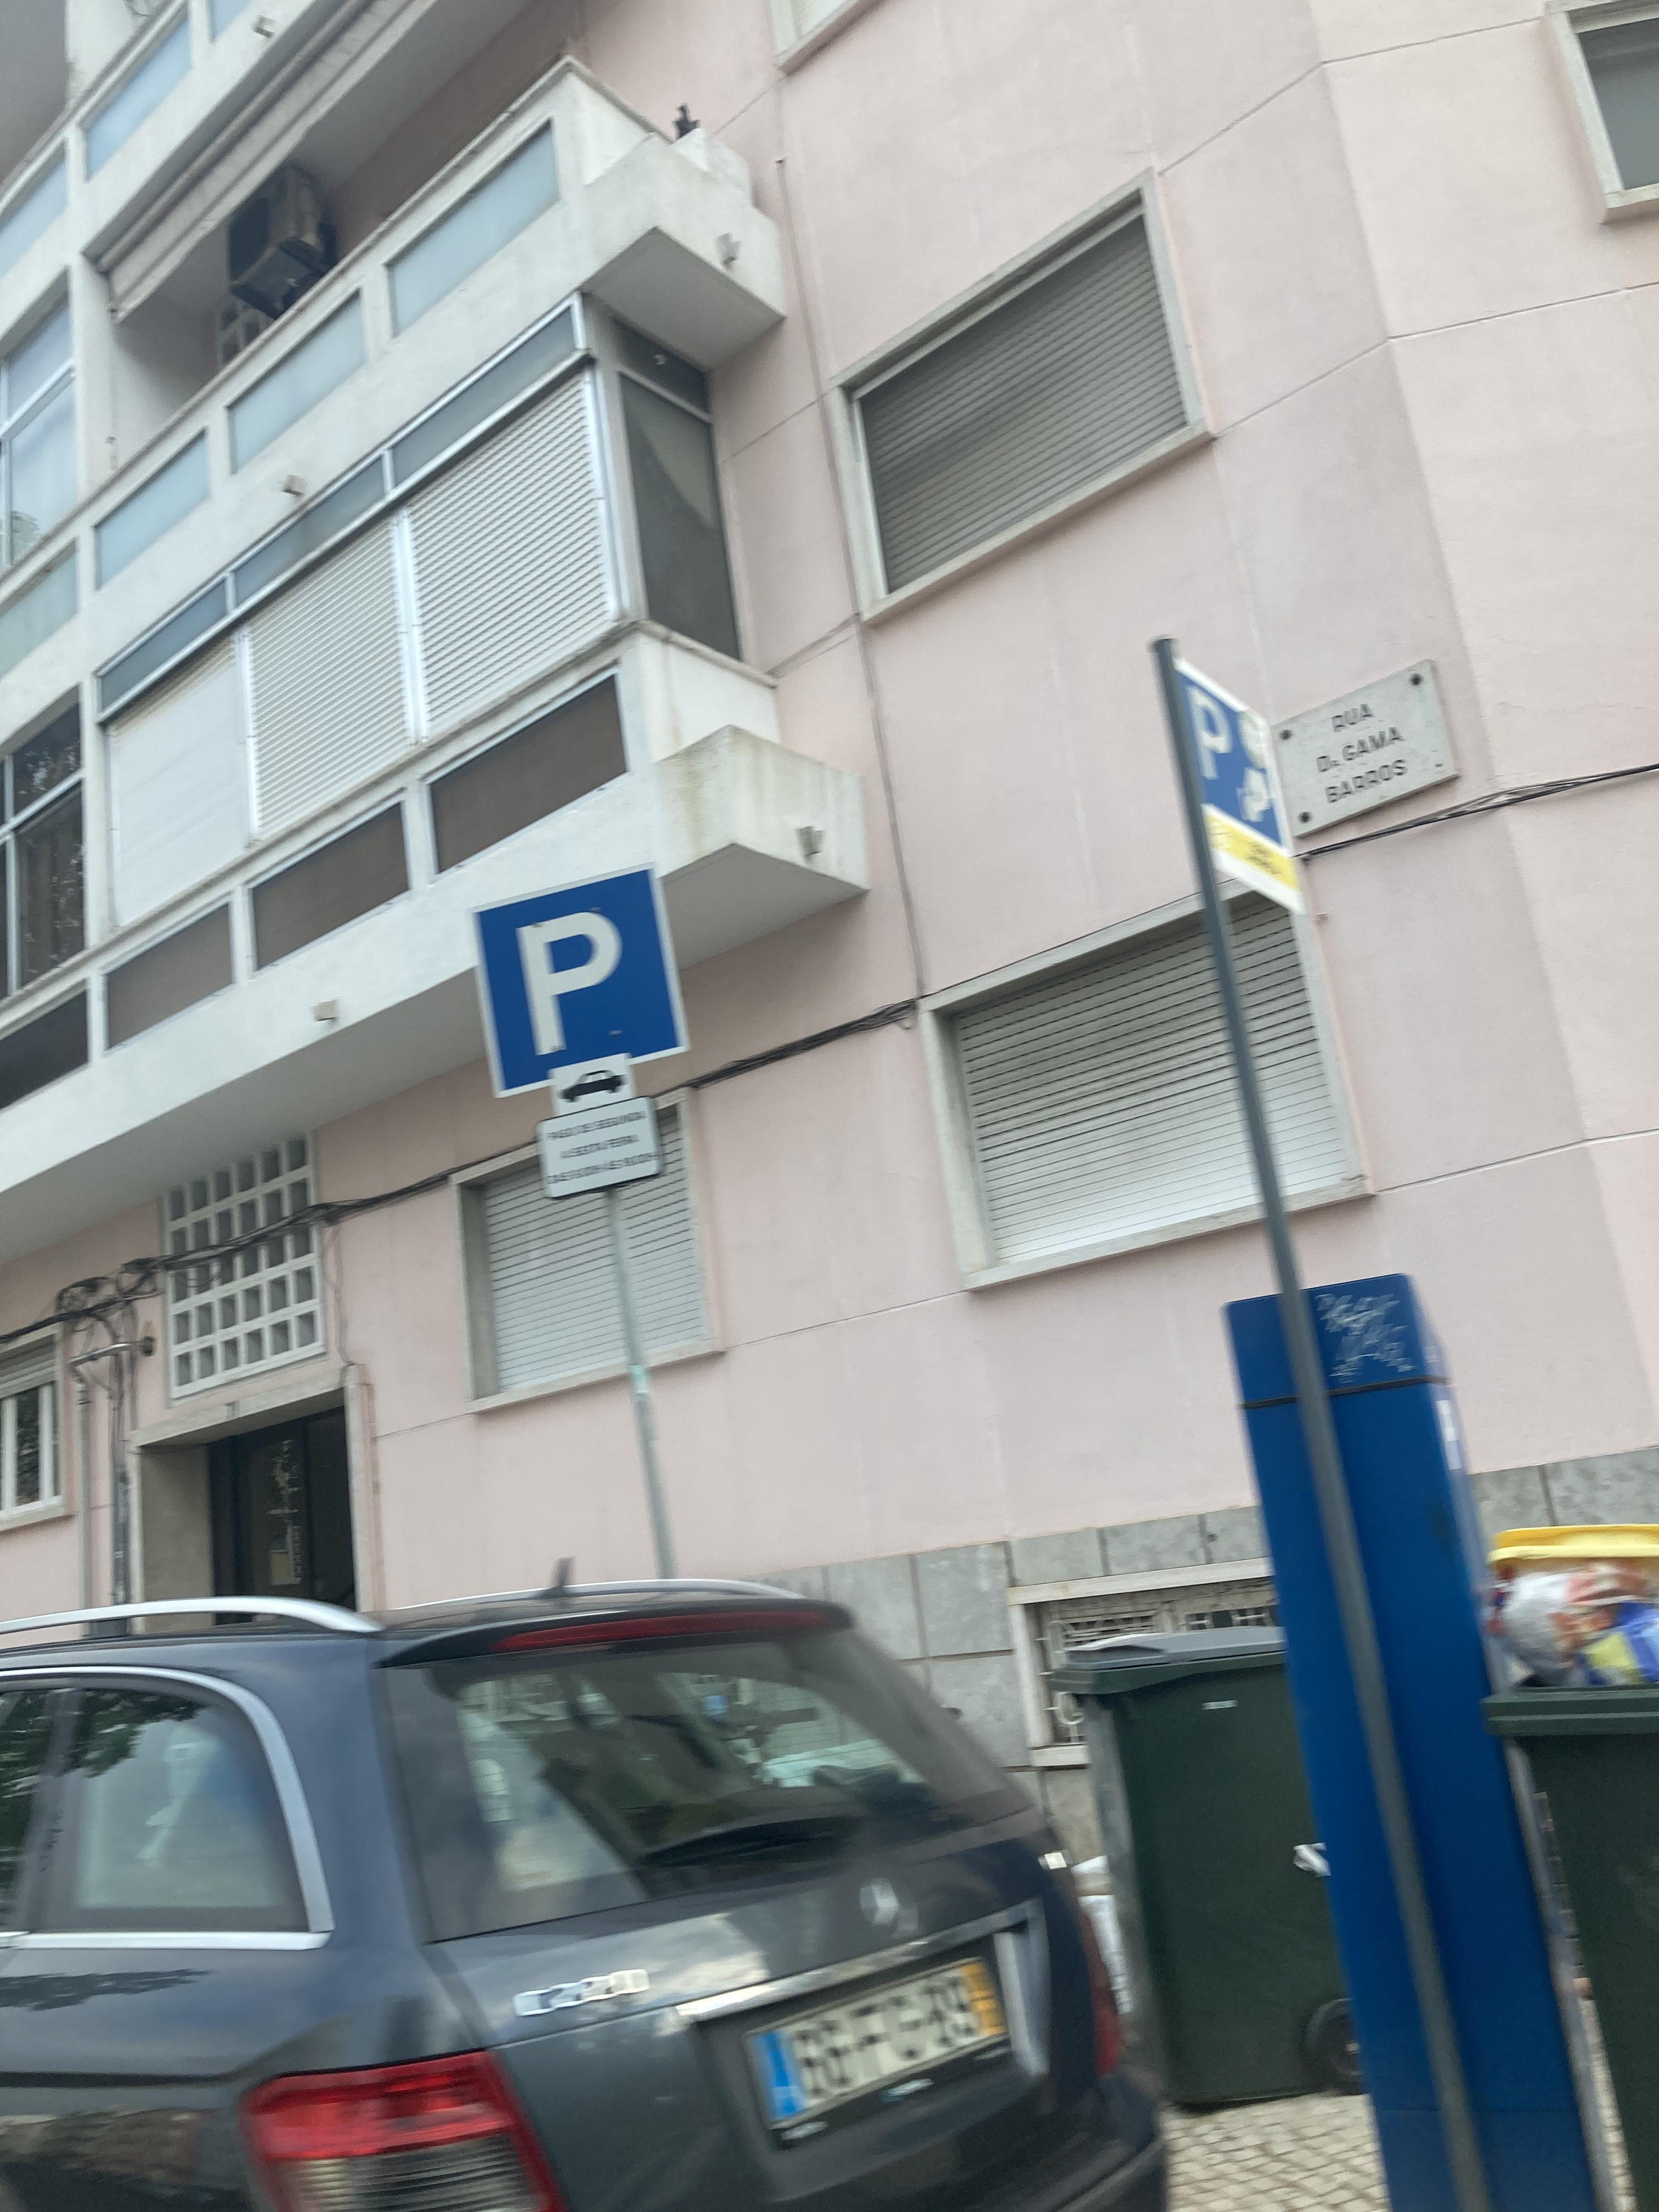Estacionamento autorizado: (429, 878, 769, 1130)
